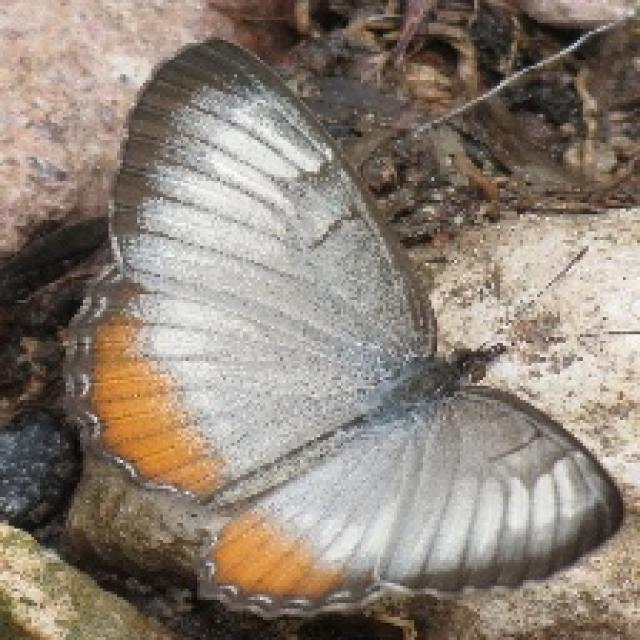butterfly: (57, 31, 626, 620)
